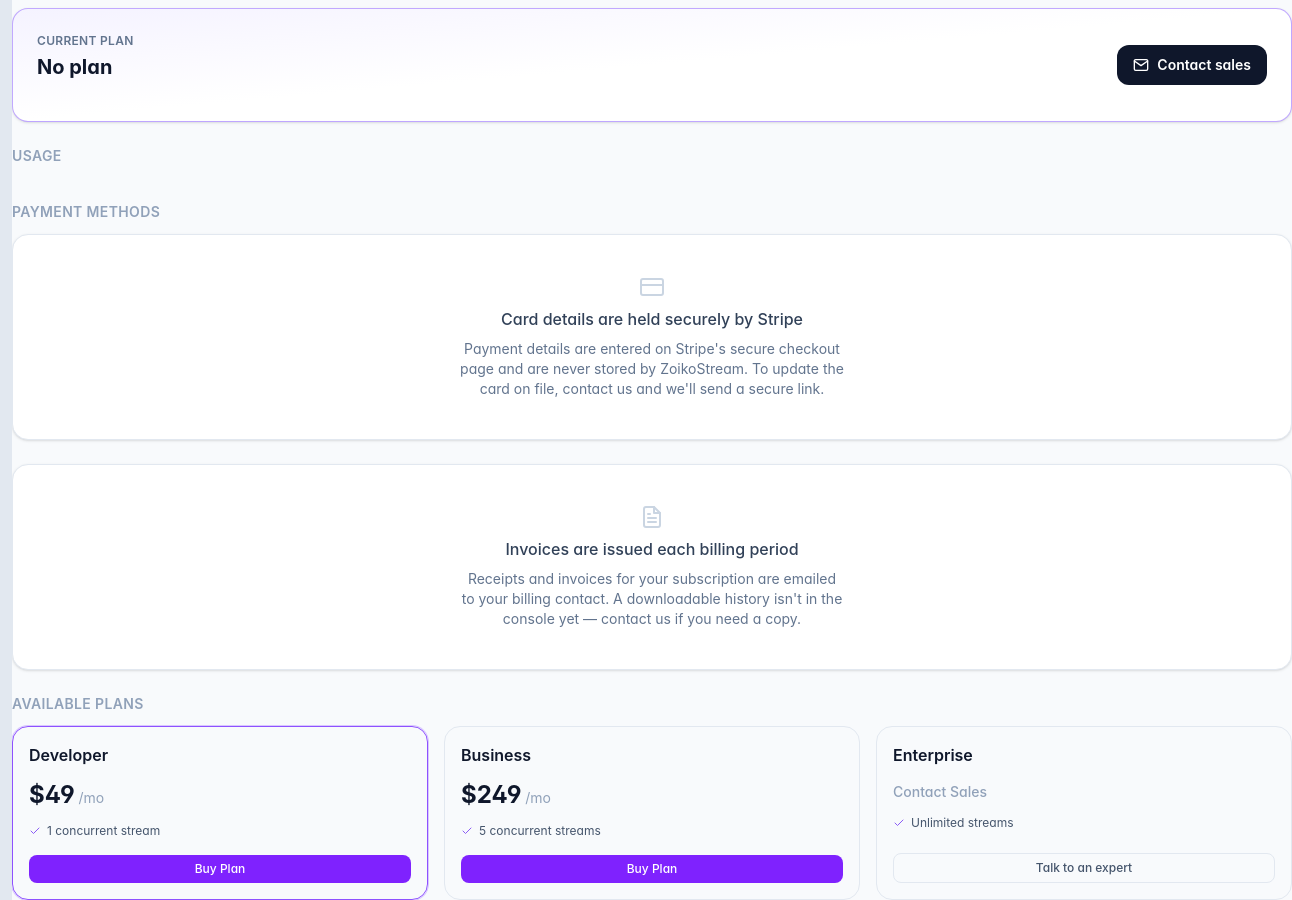
Test: One click, one Checkout Session › disables the button and says what is happening
(page scrolled)
Expected: the heading "Available Plans" is shown, [12, 694, 144, 714]
Click the button "Buy Plan" below "1 concurrent stream": (220, 869) [29, 855, 411, 883]
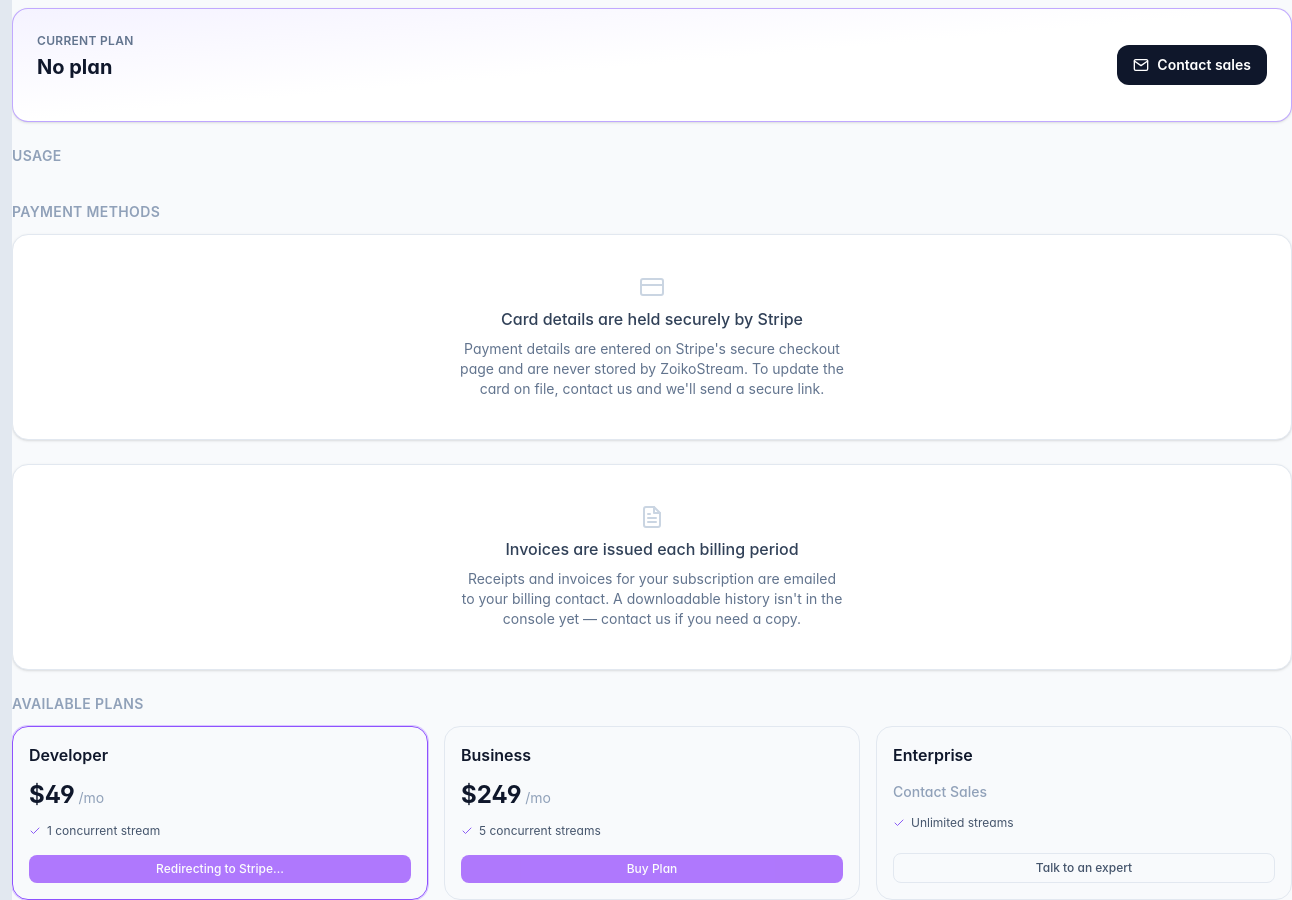
Result: the button "Redirecting to Stripe…" is disabled at [29, 855, 411, 883]
Result: the button "Redirecting to Stripe…" is shown at [29, 855, 411, 883]
